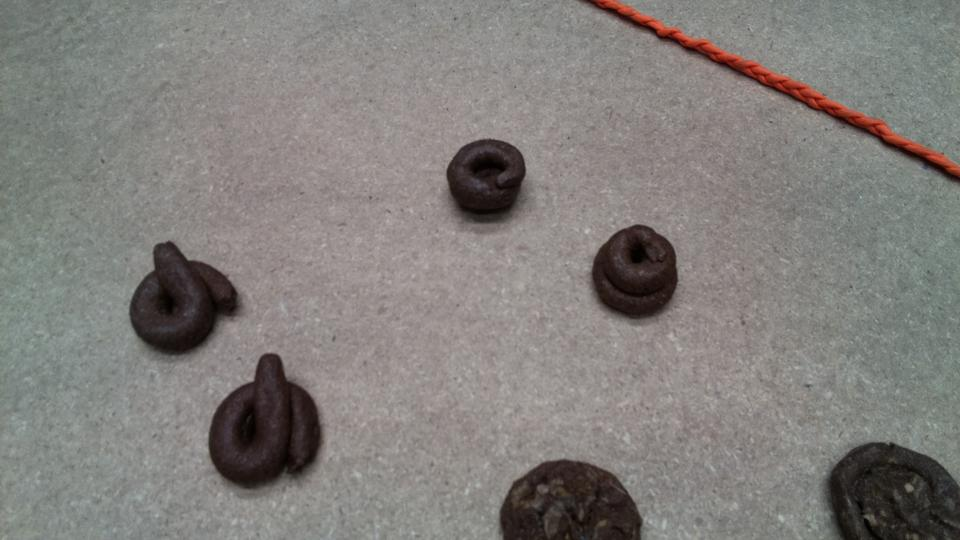poop: (204, 350, 324, 492), (126, 238, 241, 357), (826, 438, 959, 540), (498, 456, 647, 540), (588, 222, 681, 321), (443, 134, 529, 219)
rope: (602, 1, 960, 178)
